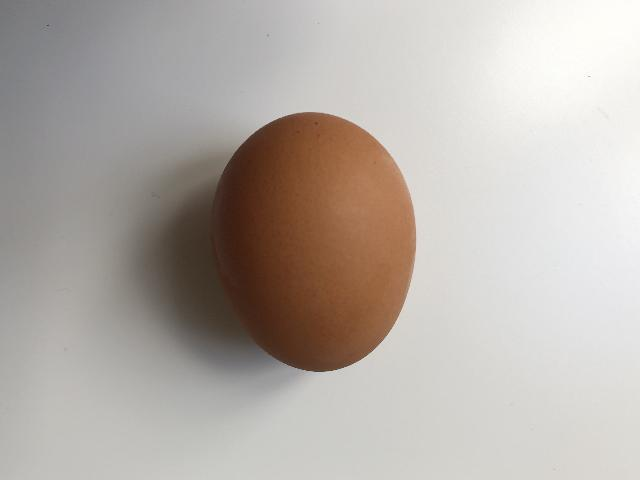Sano: (209, 110, 417, 373)
